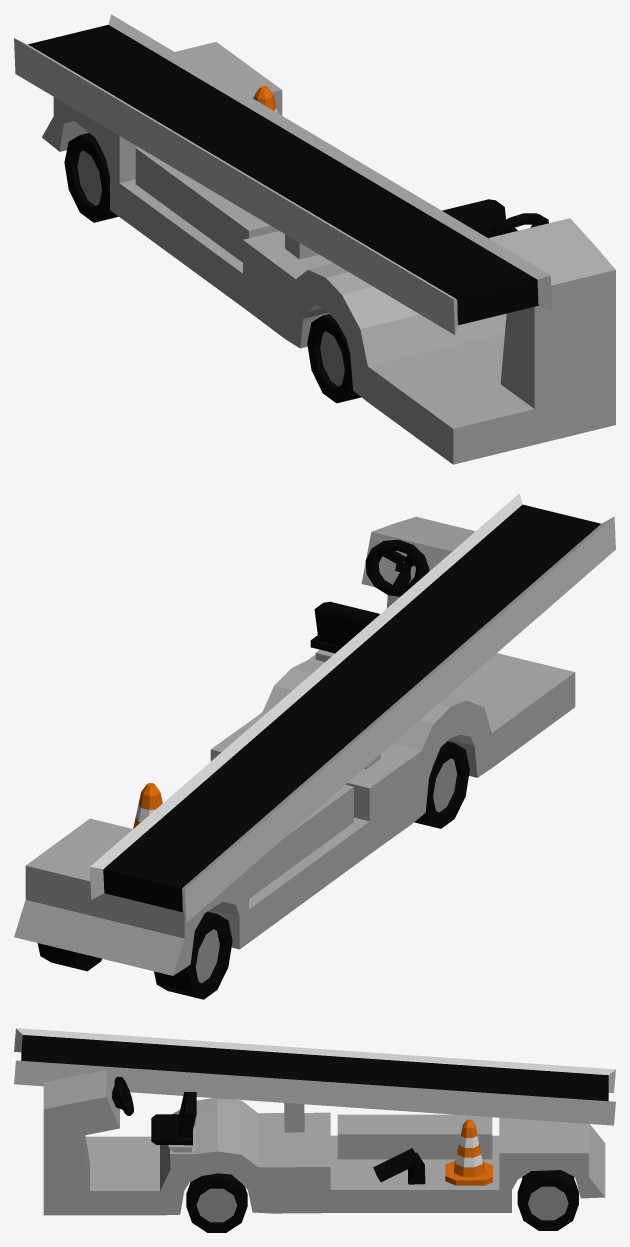
File: belt.glb
3 renders of one model, top to bottom at view 1: azimuth 30°, elevation 25°; view 2: azimuth 150°, elevation 25°; view 3: azimuth 270°, elevation 25°, orthographic. The views are drawn at different scales.
Parts seen in each view (by area): view 1: vehicle; view 2: vehicle; view 3: vehicle.
Part boxes in pixels (x1,y1,x2,y2): vehicle: (14, 14, 615, 464); vehicle: (14, 493, 615, 999); vehicle: (14, 1028, 615, 1232).
Bounding box in the file's own units: 1.79 × 1.99 × 7.5.
Materials: 8 (1 with a texture image).
